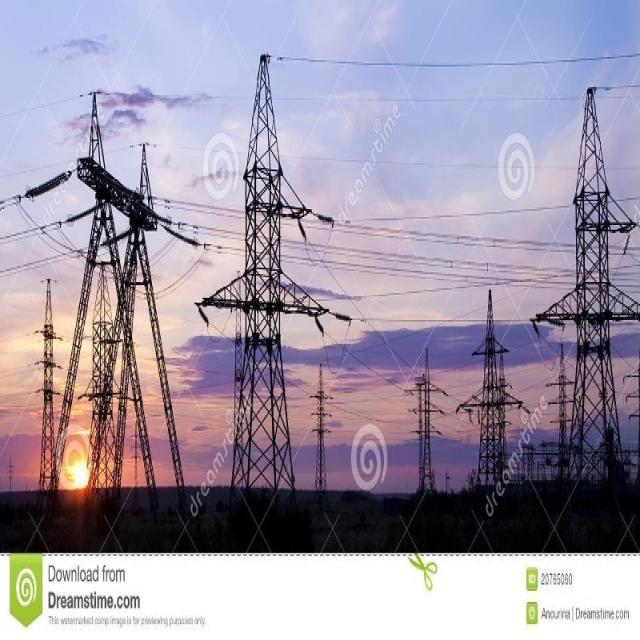non-critical vegetation: (224, 49, 306, 505), (555, 81, 630, 499)
